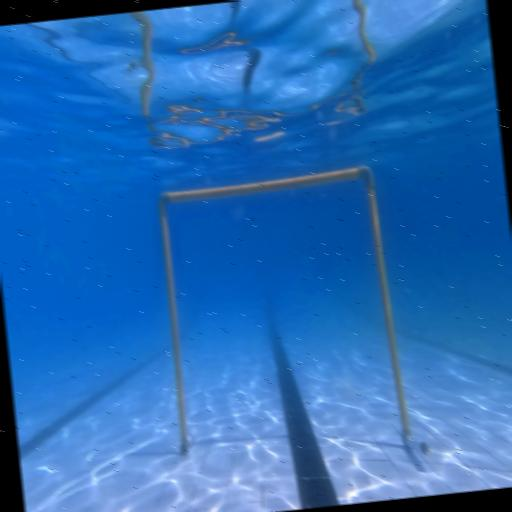gate: (153, 162, 429, 480)
